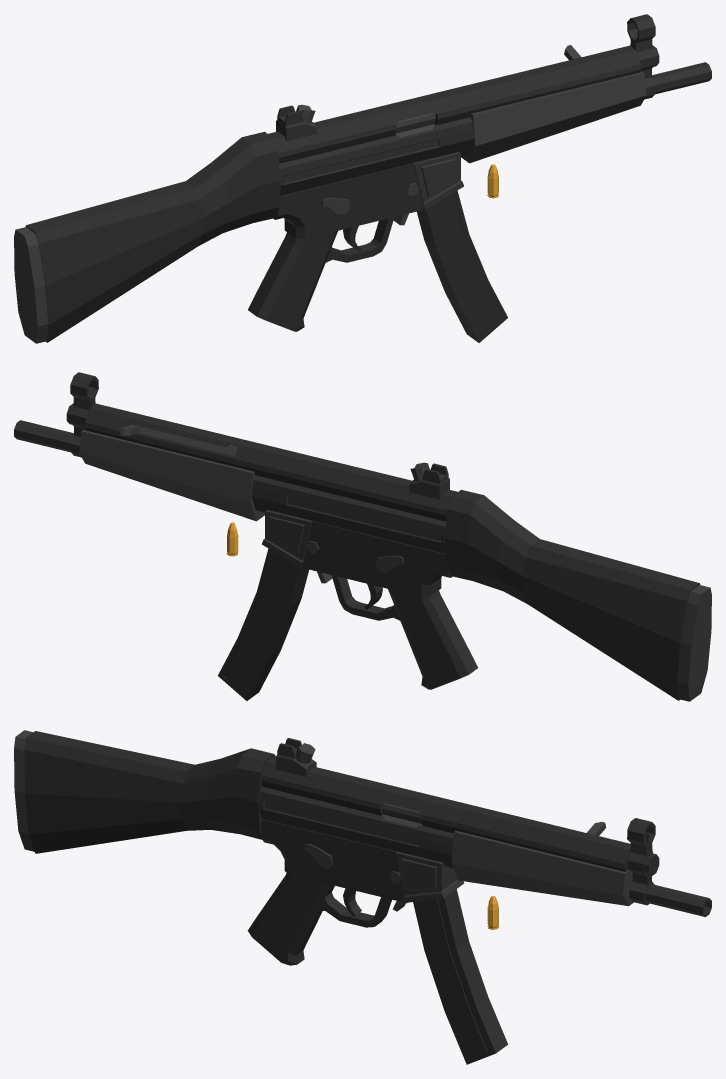
3 renders of one model, top to bottom at view 1: azimuth 30°, elevation 25°; view 2: azimuth 150°, elevation 25°; view 3: azimuth 330°, elevation 25°, orthographic.
Visible parts, largest first — view 1: MP5, Mag; view 2: MP5, Mag; view 3: MP5, Mag.
Boxes of the visible parts, <box> form: MP5: <box>14,14,711,343</box>; Mag: <box>417,190,507,342</box>; MP5: <box>14,372,711,701</box>; Mag: <box>218,548,308,700</box>; MP5: <box>14,730,711,965</box>; Mag: <box>413,889,507,1064</box>.
Bounding box in the file's own units: 842 × 327 × 63.32.
1 material, 1 textured.
